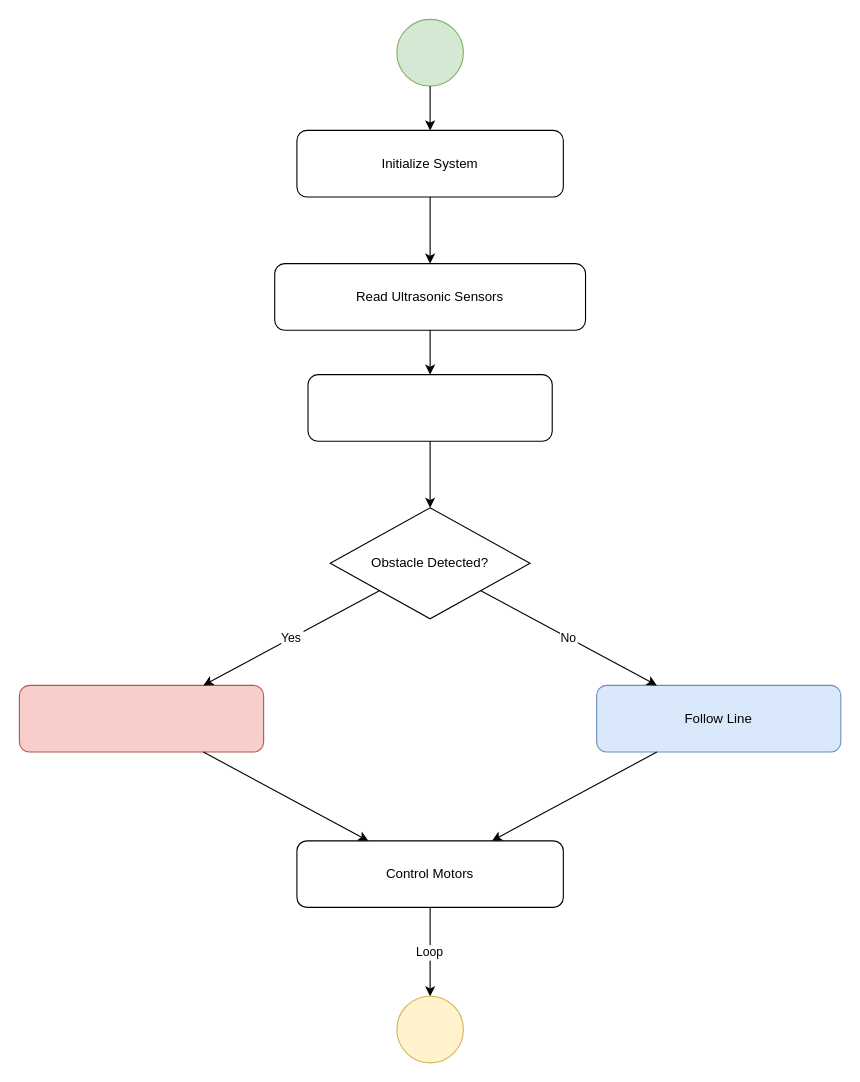
Some shapes in this 860 by 1082 pixel diagram are drawn without their labels. The shapes that lost their labels are listed below. From the top down, each one's box as (x1, y1, x2, y2) in pixels, then its label:
(307, 374, 552, 441): Read IR Sensors
(18, 684, 264, 752): Avoid Obstacle
